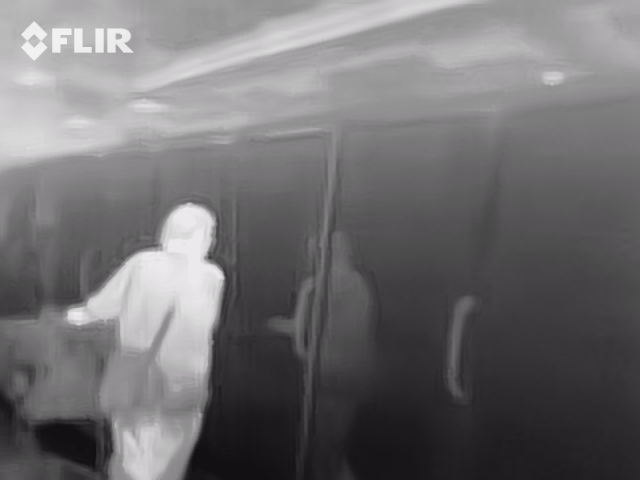head: (161, 201, 215, 259)
